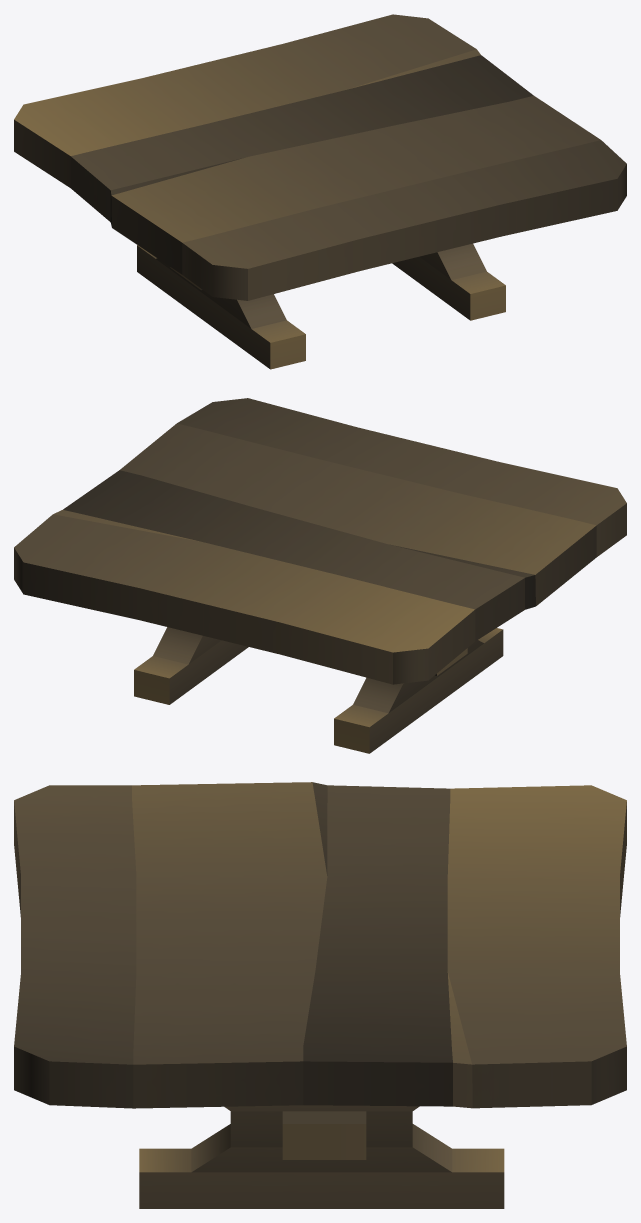
File: table.fbx
The picture shows the model from 3 angles, top to bottom: view 1: azimuth 30°, elevation 25°; view 2: azimuth 150°, elevation 25°; view 3: azimuth 270°, elevation 25°; orthographic projection. The views are drawn at different scales.
Visible parts, largest first — view 1: table; view 2: table; view 3: table.
Boxes of the visible parts, box(x1,y1,x2,y2) form: table: box(14, 14, 626, 369); table: box(14, 398, 626, 753); table: box(14, 782, 626, 1208).
Bounding box in the file's own units: 183 × 62.39 × 168.
